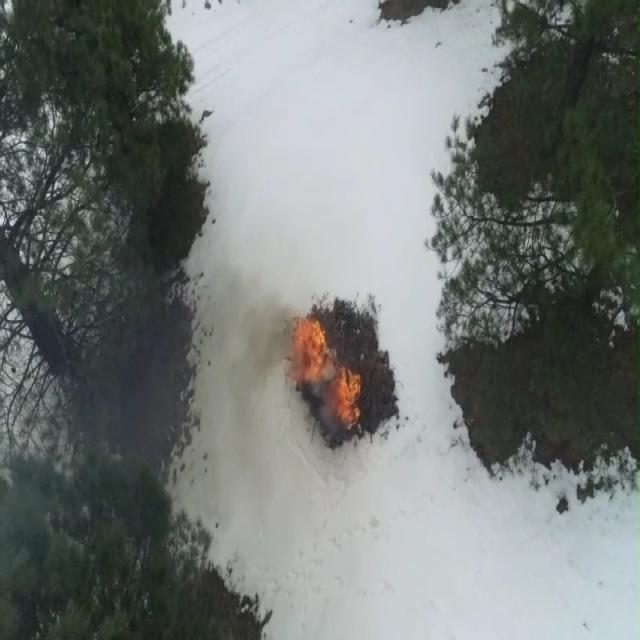Fire: (290, 312, 325, 382), (339, 372, 362, 421)
Smoke: (228, 304, 288, 392)
